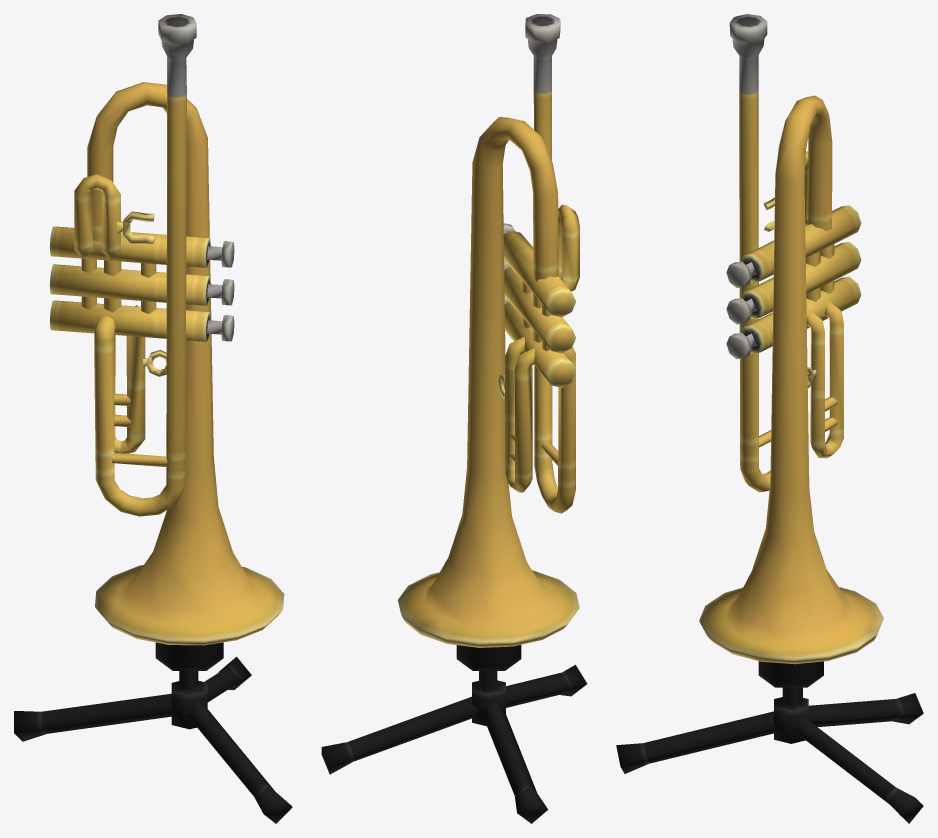
3 views of the same model, side by side, from view 1: azimuth 30°, elevation 25°; view 2: azimuth 150°, elevation 25°; view 3: azimuth 270°, elevation 25° (orthographic). The views are drawn at different scales.
Bounding box in the file's own units: 3.51 × 10.76 × 4.07.
Materials: 1 (1 with a texture image).
